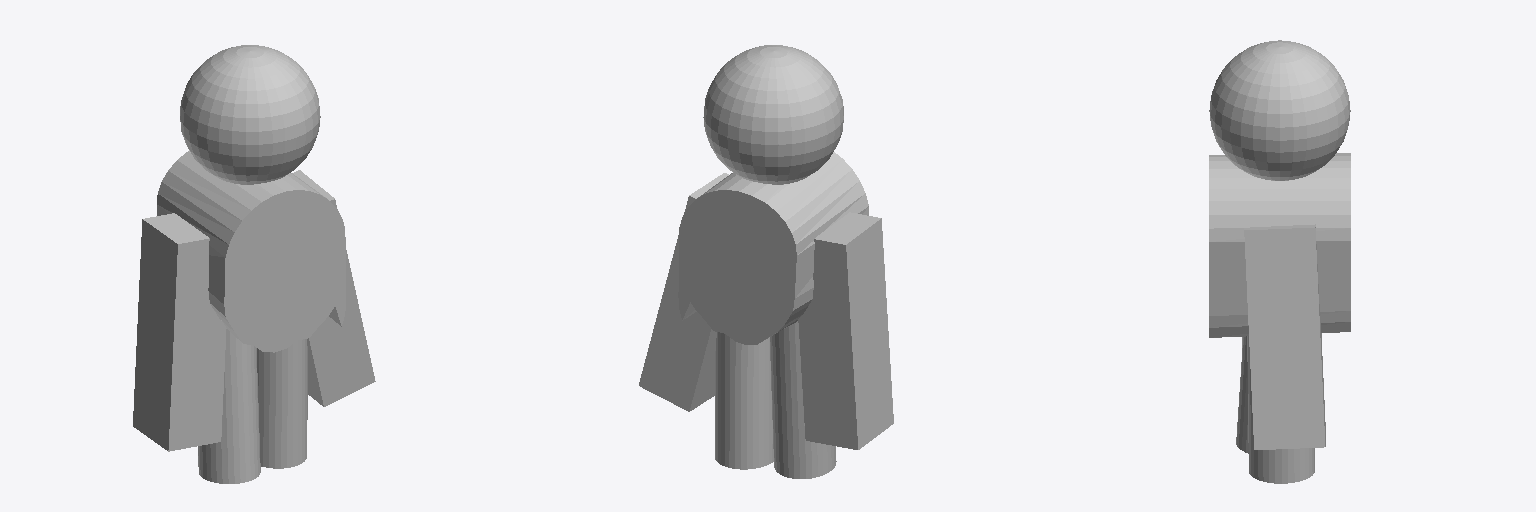
File: Figurine91.obj
The picture shows the model from 3 angles: view 1: azimuth 30°, elevation 25°; view 2: azimuth 150°, elevation 25°; view 3: azimuth 270°, elevation 25°; orthographic projection.
Visible parts, largest first — view 1: Cylinder; view 2: Cylinder; view 3: Cylinder.
Boxes of the visible parts, <box> form: Cylinder: <box>133,45,375,483</box>; Cylinder: <box>639,45,893,478</box>; Cylinder: <box>1209,40,1350,483</box>.
Bounding box in the file's own units: 3.49 × 6.45 × 2.